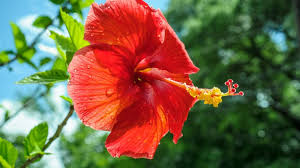hybiscus: (69, 1, 245, 160)
